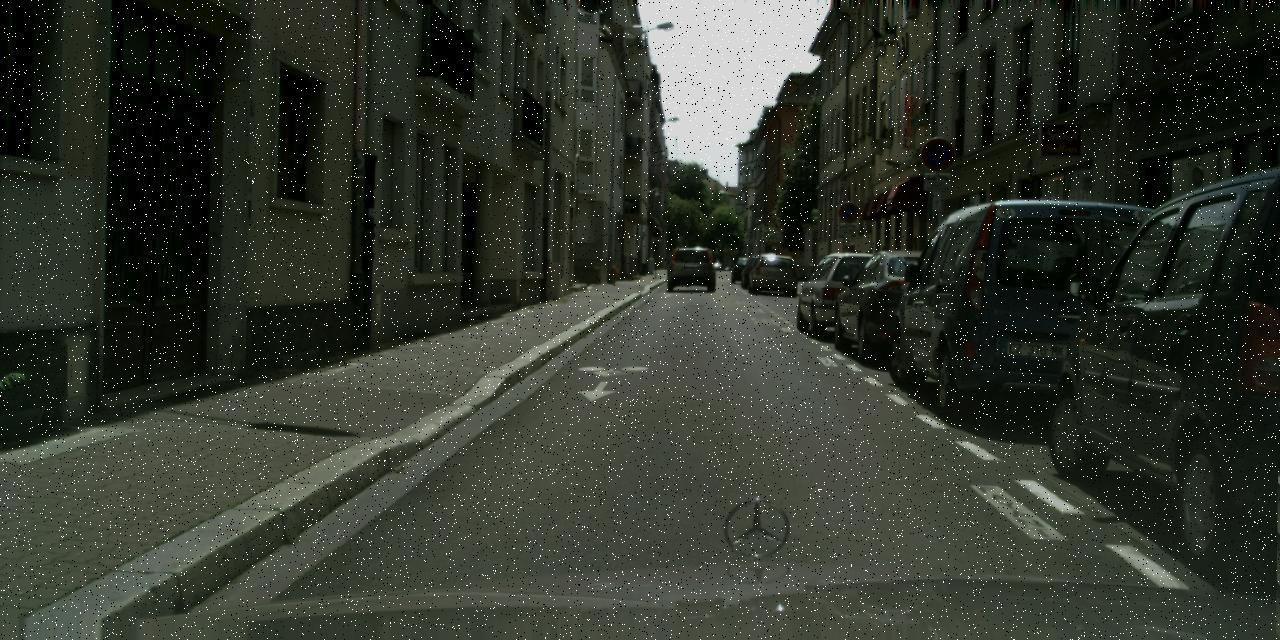ped: (873, 244, 897, 305), (842, 242, 862, 291)
